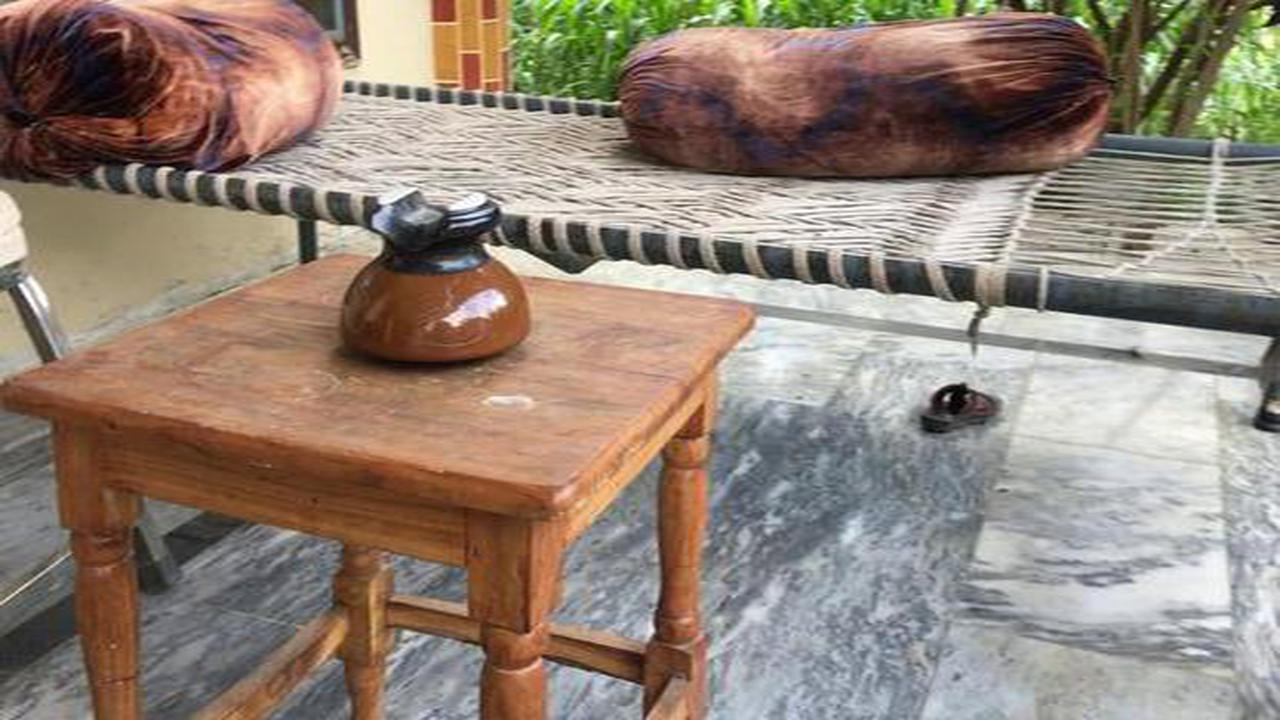insulator_pin: (321, 167, 557, 378)
